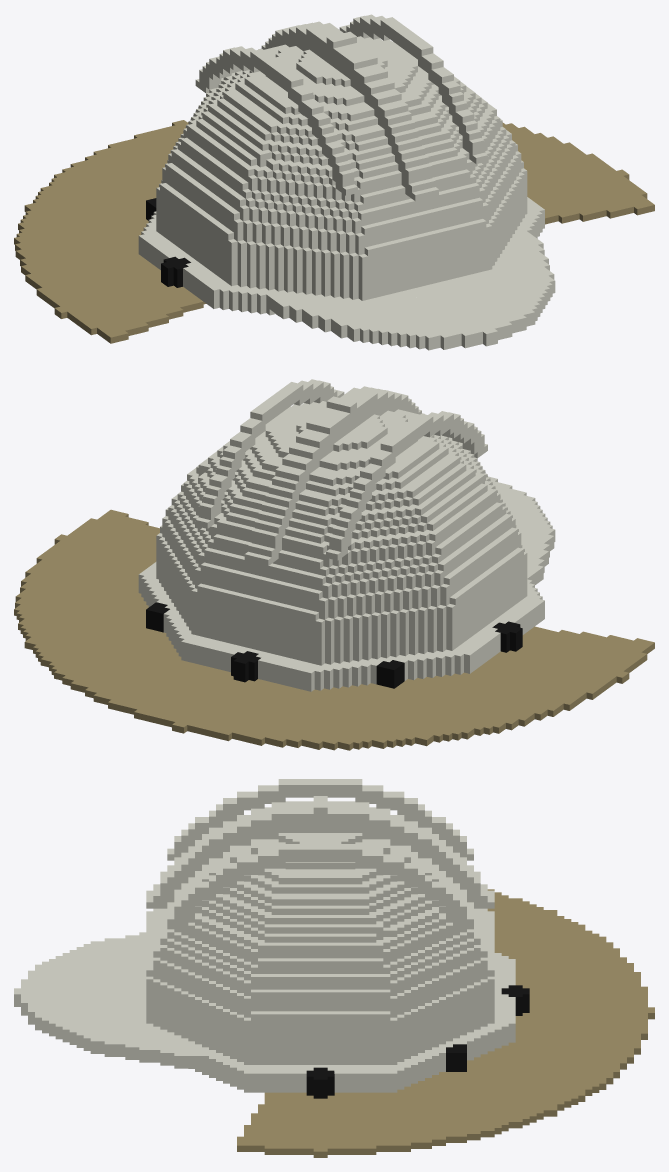
File: hat_hard_hooded.glb
3 renders of one model, top to bottom at view 1: azimuth 30°, elevation 25°; view 2: azimuth 150°, elevation 25°; view 3: azimuth 270°, elevation 25°, orthographic. The views are drawn at different scales.
Parts seen in each view (by area): view 1: hat_hard_hooded:compound; view 2: hat_hard_hooded:compound; view 3: hat_hard_hooded:compound.
Part boxes in pixels (x1,y1,x2,y2): hat_hard_hooded:compound: [14, 14, 654, 350]; hat_hard_hooded:compound: [14, 379, 654, 750]; hat_hard_hooded:compound: [14, 779, 654, 1157].
Size of the model in its own units: 0.384 by 0.136 by 0.368.
